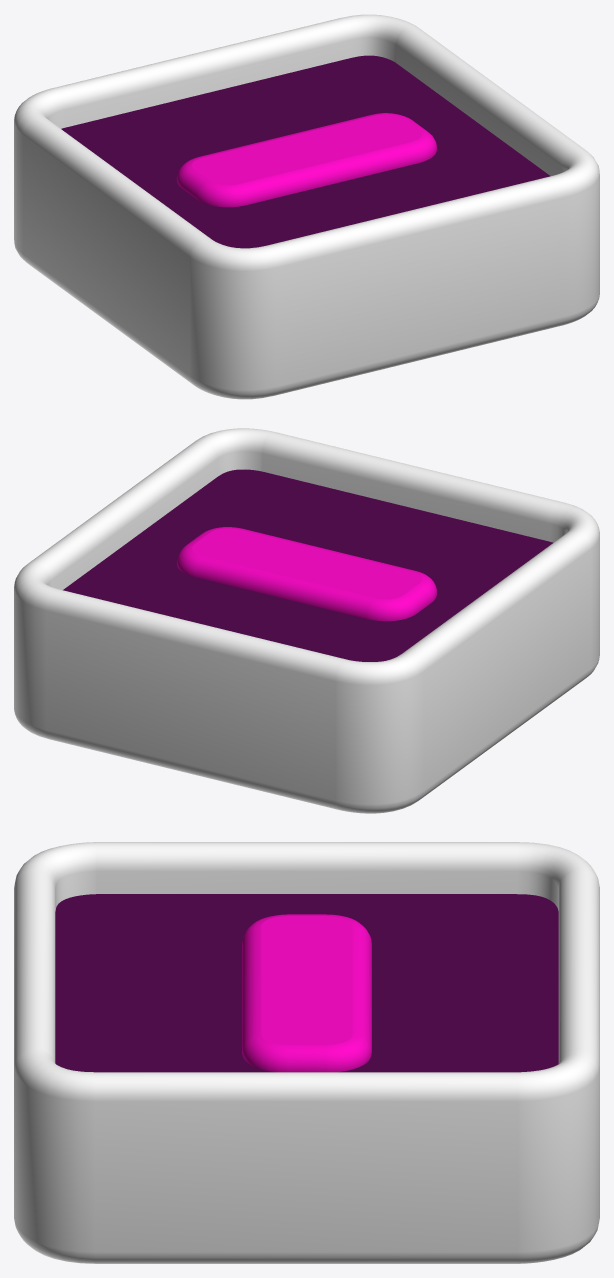
File: Bonus-PaddleSlowed.dae
The picture shows the model from 3 angles, top to bottom: view 1: azimuth 30°, elevation 25°; view 2: azimuth 150°, elevation 25°; view 3: azimuth 270°, elevation 25°; orthographic projection. The views are drawn at different scales.
Visible parts, largest first — view 1: Bonus; view 2: Bonus; view 3: Bonus.
Boxes of the visible parts, x1=… form: Bonus: x1=14, y1=14, x2=599, y2=399; Bonus: x1=14, y1=428, x2=599, y2=813; Bonus: x1=14, y1=842, x2=599, y2=1263.
Size of the model in its own units: 0.1517 by 0.0537 by 0.1517.
